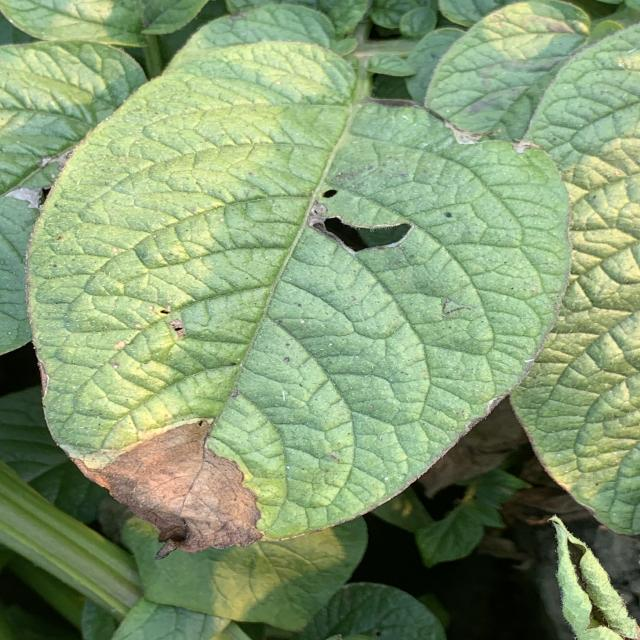lateblight: (75, 420, 262, 559)
